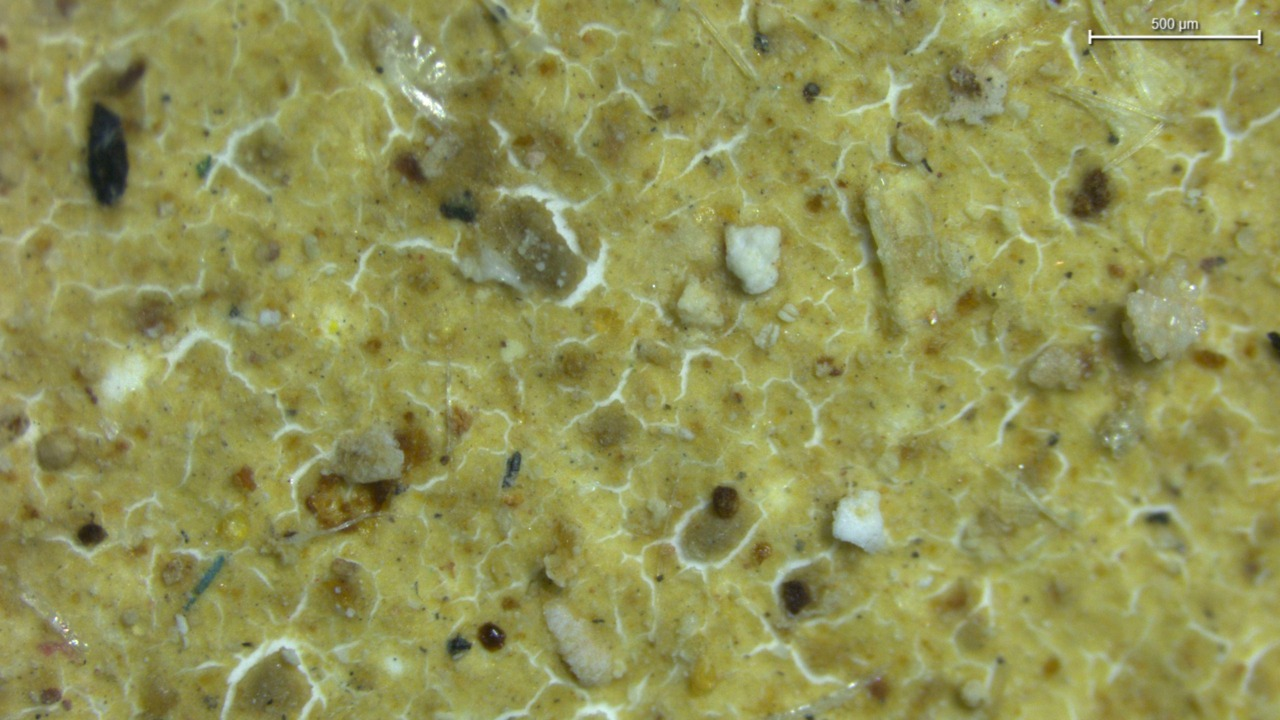microplastic_fragment: (1124, 274, 1206, 362), (544, 600, 610, 686), (322, 425, 404, 484), (725, 225, 781, 294), (833, 490, 887, 553)
